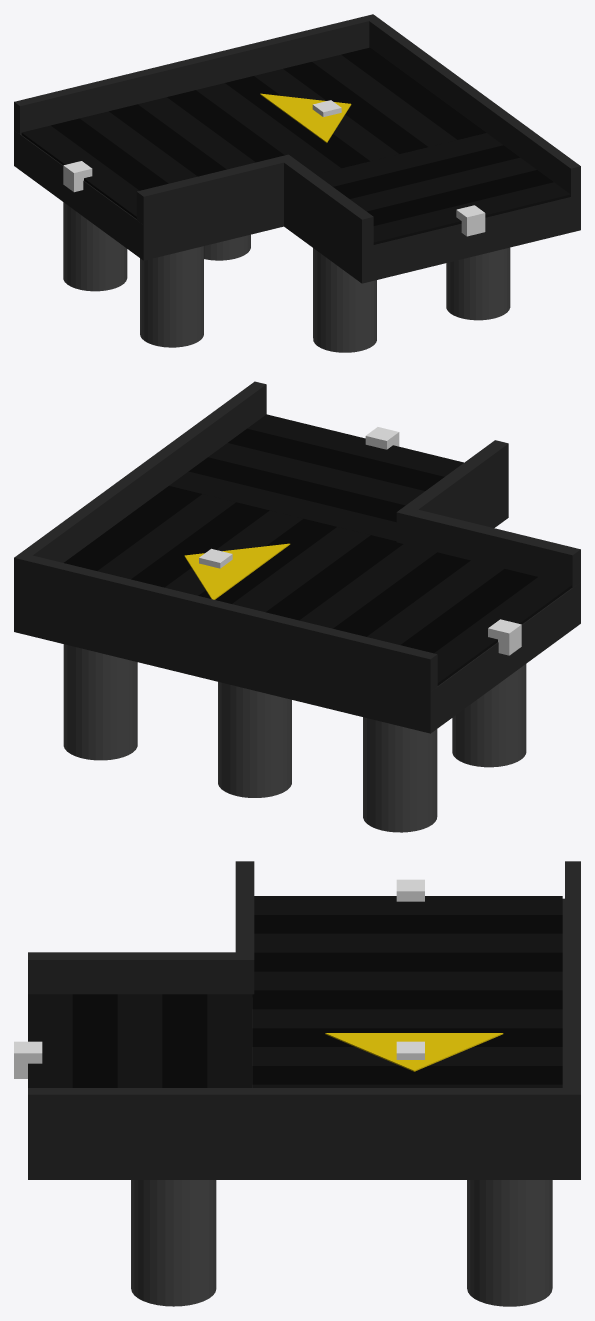
File: corner-belt.fbx
3 renders of one model, top to bottom at view 1: azimuth 30°, elevation 25°; view 2: azimuth 150°, elevation 25°; view 3: azimuth 270°, elevation 25°, orthographic. The views are drawn at different scales.
Parts seen in each view (by area): view 1: LightBelt.003, BlackBelt.003, Main.004, Main.006, BackLegs.003, Main.003, BackLegs.004, LightBelt.004, Main.002, Main.007, BlackBelt.004, Main.005 (+4 smaller); view 2: LightBelt.003, BlackBelt.003, BackLegs.005, Main.006, BackLegs.003, Main.003, Main.004, LightBelt.004, Main.002, Main.007, BlackBelt.004, Main.005 (+3 smaller); view 3: LightBelt.003, BlackBelt.003, Main.004, Main.002, LightBelt.004, BackLegs.005, BackLegs.004, Main.005, BlackBelt.004, Main.006, Arrow.002, Main.007 (+2 smaller).
Boxes of the visible parts, x1=… form: LightBelt.003: x1=21, y1=54, x2=456, y2=218; BlackBelt.003: x1=51, y1=47, x2=486, y2=190; Main.004: x1=284, y1=191, x2=580, y2=283; Main.006: x1=14, y1=67, x2=283, y2=224; BackLegs.003: x1=63, y1=202, x2=203, y2=347; Main.003: x1=14, y1=130, x2=283, y2=260; BackLegs.004: x1=313, y1=247, x2=510, y2=352; LightBelt.004: x1=316, y1=133, x2=570, y2=244; Main.002: x1=363, y1=14, x2=580, y2=196; Main.007: x1=155, y1=16, x2=369, y2=98; BlackBelt.004: x1=333, y1=145, x2=553, y2=225; Main.005: x1=277, y1=154, x2=373, y2=247; LightBelt.003: x1=97, y1=494, x2=571, y2=685; BlackBelt.003: x1=64, y1=486, x2=537, y2=653; BackLegs.005: x1=63, y1=644, x2=291, y2=797; Main.006: x1=268, y1=509, x2=580, y2=691; BackLegs.003: x1=363, y1=664, x2=526, y2=832; Main.003: x1=268, y1=582, x2=580, y2=733; Main.004: x1=14, y1=476, x2=508, y2=693; LightBelt.004: x1=169, y1=414, x2=463, y2=541; Main.002: x1=14, y1=381, x2=266, y2=593; Main.007: x1=25, y1=555, x2=274, y2=652; BlackBelt.004: x1=188, y1=428, x2=444, y2=522; Main.005: x1=396, y1=440, x2=508, y2=545; LightBelt.003: x1=252, y1=896, x2=562, y2=1087; BlackBelt.003: x1=252, y1=915, x2=562, y2=1084; Main.004: x1=28, y1=990, x2=580, y2=1179; Main.002: x1=28, y1=1088, x2=580, y2=1132; LightBelt.004: x1=28, y1=994, x2=251, y2=1087; BackLegs.005: x1=467, y1=1180, x2=552, y2=1306; BackLegs.004: x1=131, y1=1180, x2=216, y2=1306; Main.005: x1=28, y1=952, x2=254, y2=997; BlackBelt.004: x1=72, y1=994, x2=207, y2=1087; Main.006: x1=235, y1=861, x2=580, y2=952; Arrow.002: x1=325, y1=1033, x2=503, y2=1071; Main.007: x1=565, y1=952, x2=580, y2=1087.
Size of the model in its own units: 74.32 by 32.6 by 74.35.
